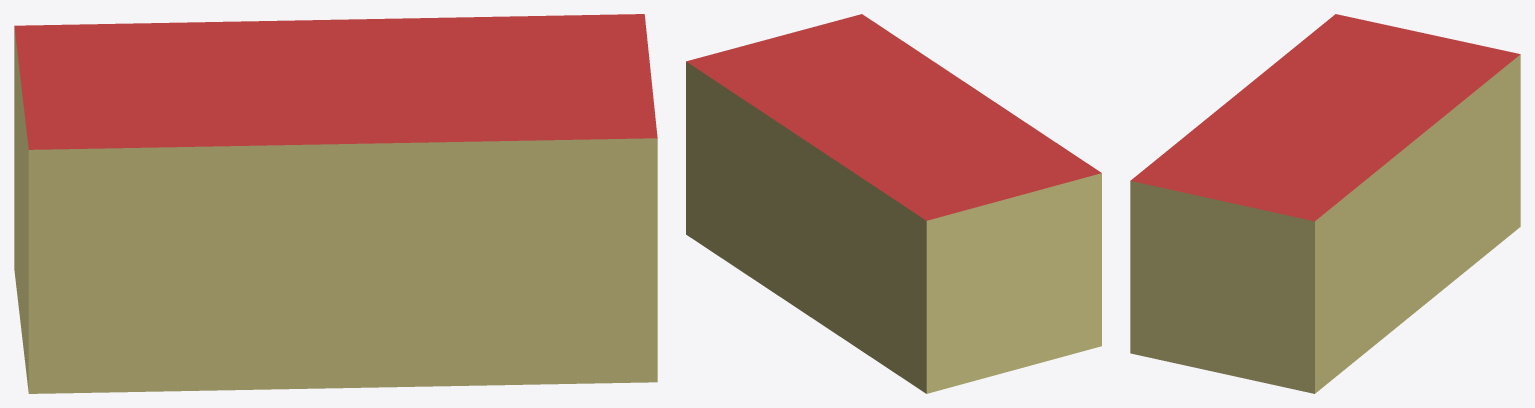
3 renders of one model, left to right at view 1: azimuth 30°, elevation 25°; view 2: azimuth 150°, elevation 25°; view 3: azimuth 270°, elevation 25°, orthographic. The views are drawn at different scales.
Bounding box in the file's own units: 15.42 × 12.26 × 5.98.
